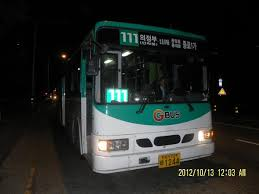bnum: (119, 29, 139, 45)
